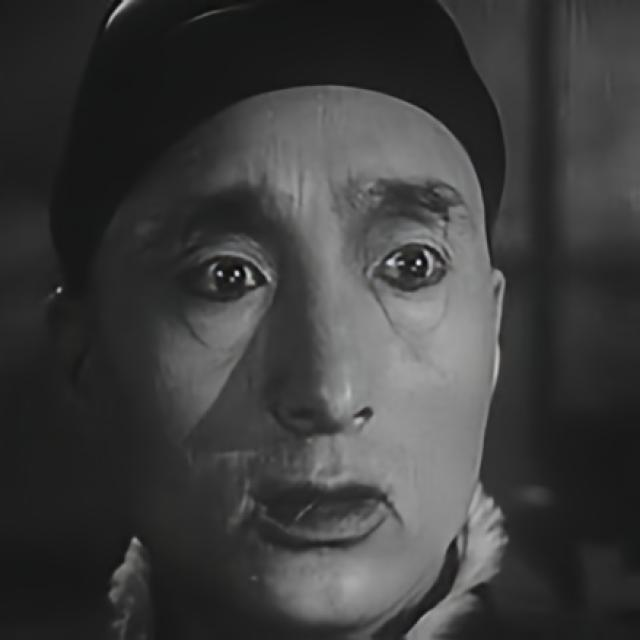fear: (103, 116, 492, 640)
